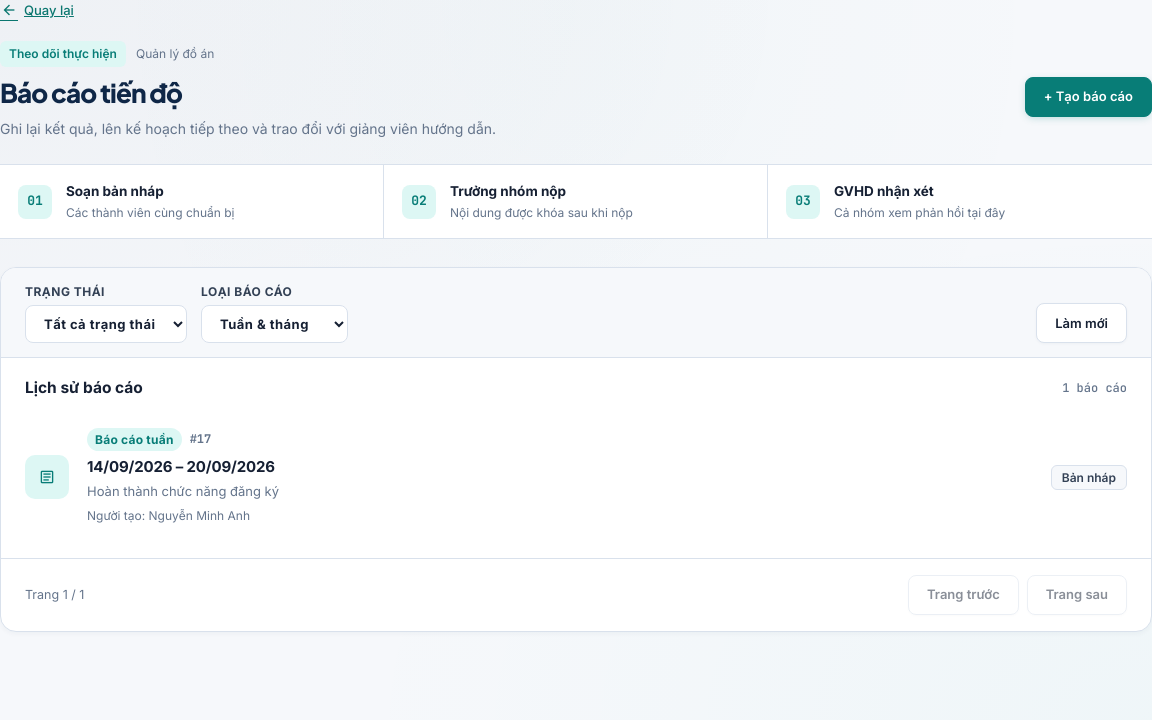
Test case: Progress reports workflow › opens a report through its row without a duplicate view action
This screenshot has width=1152, height=720.
Click the link "Hoàn thành chức năng đăng ký". click: (47, 477)
box: [25, 411, 1127, 544]
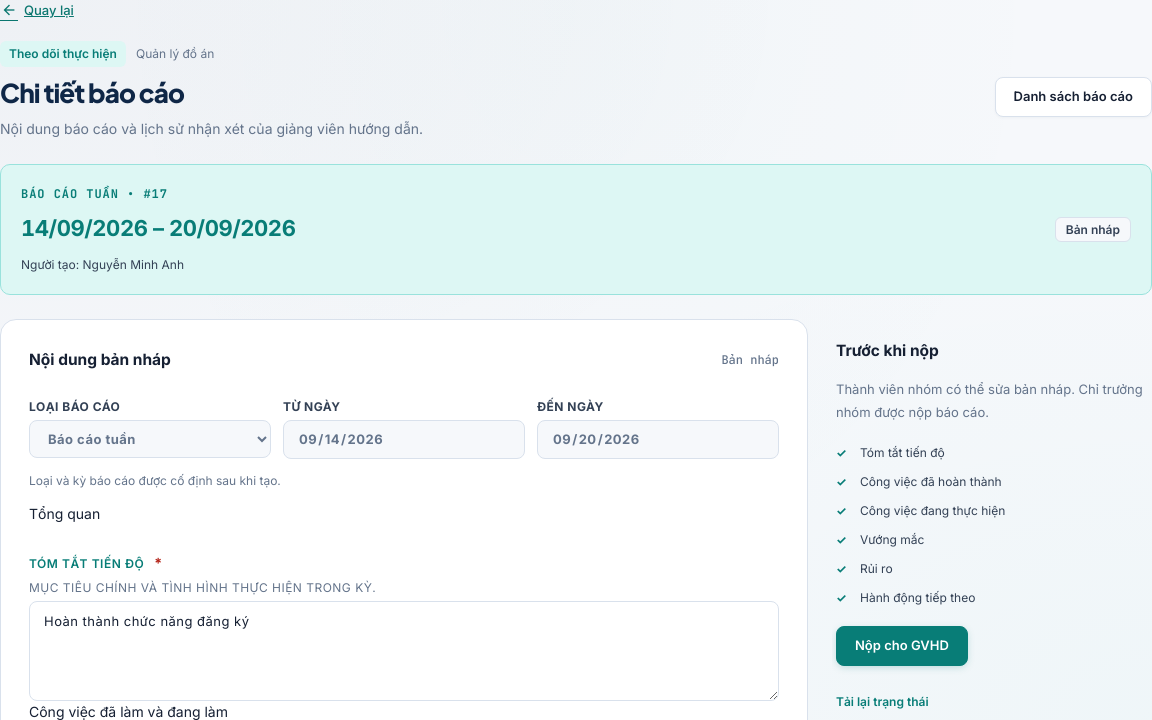
expect the heading "Chi tiết báo cáo" is shown: met, box [0, 76, 184, 109]
